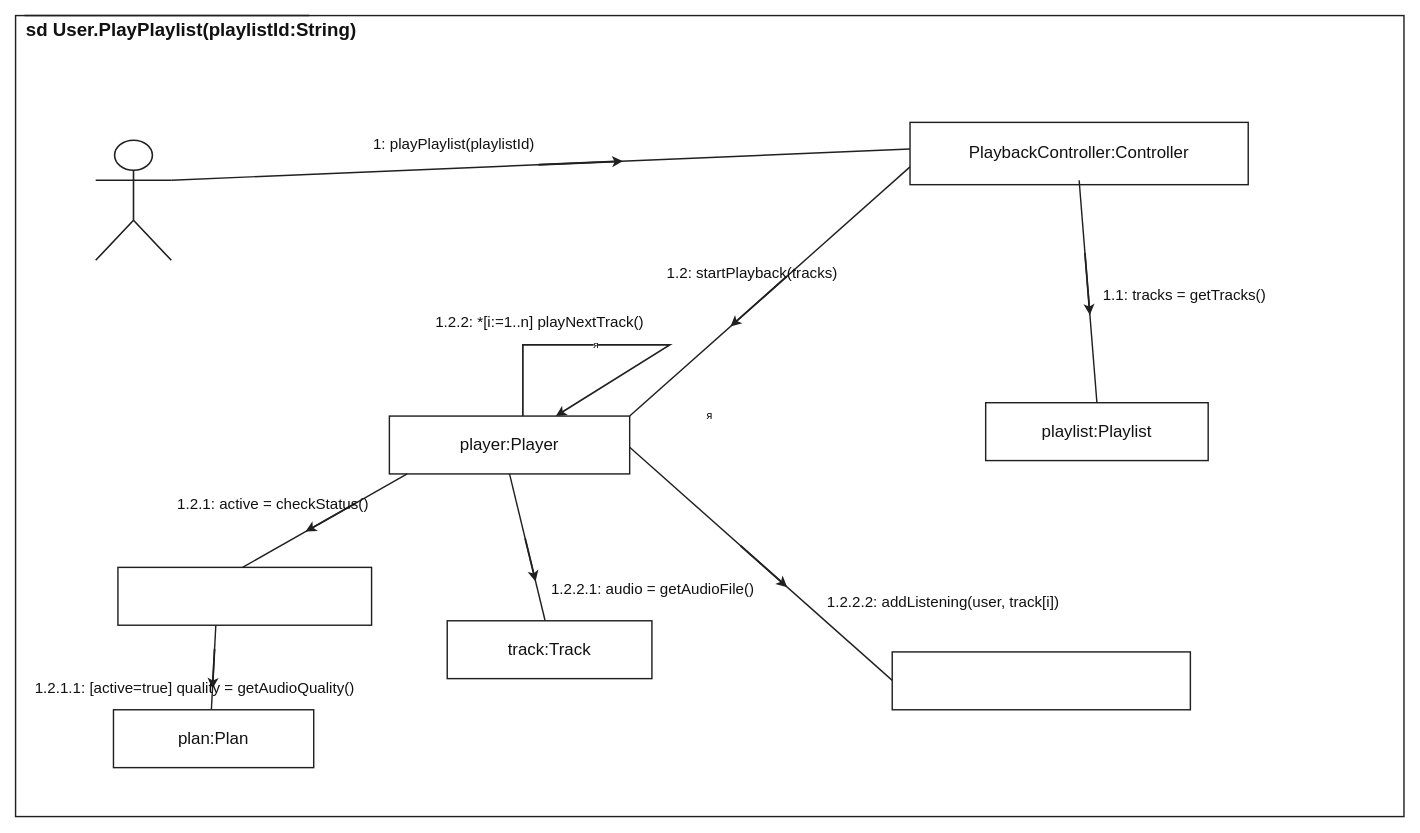
Some shapes in this 1420 by 833 pixel diagram are drawn without their labels. Here are the shapes that lost their labels. From the top down, the centre of each, then its label:
At point 133,200: ":User".
At point 244,595: "sub:Subscription".
At point 1041,680: "history:ListeningHistory".
